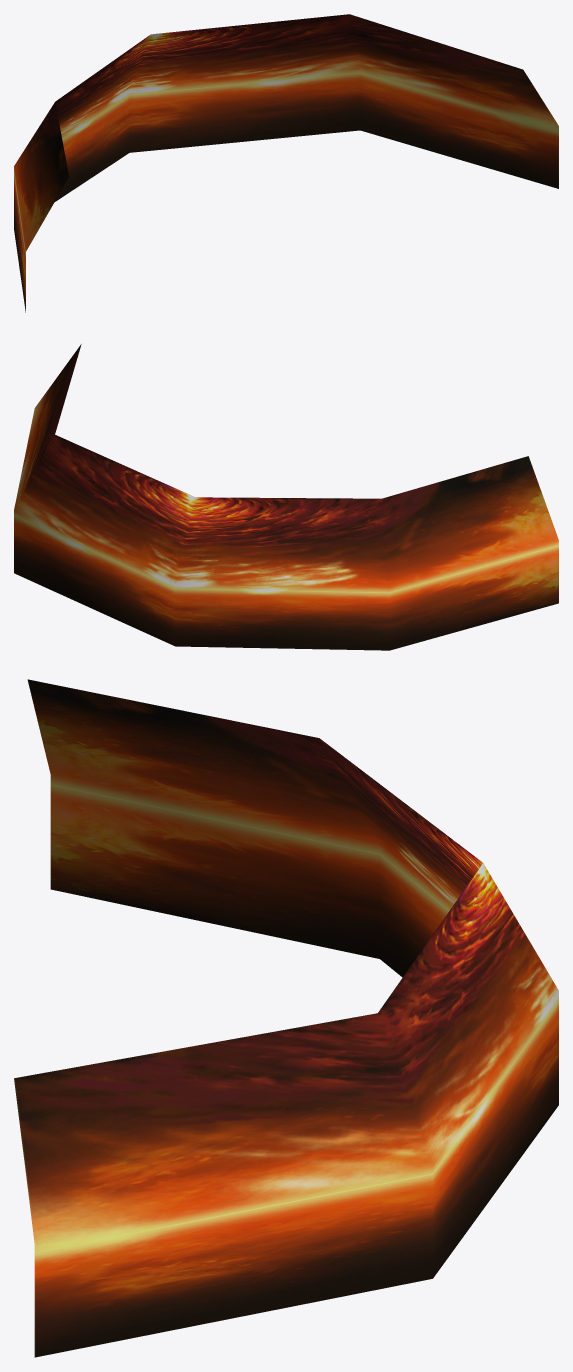
File: SkylogIng.FBX
3 views of the same model, one above another, from view 1: azimuth 30°, elevation 25°; view 2: azimuth 150°, elevation 25°; view 3: azimuth 270°, elevation 25° (orthographic). The views are drawn at different scales.
Parts seen in each view (by area): view 1: SkyLoging2; view 2: SkyLoging2; view 3: SkyLoging2.
Boxes of the visible parts, x1,y1,x2,y2 form: SkyLoging2: (14,14,558,312); SkyLoging2: (14,344,558,650); SkyLoging2: (14,679,558,1357).
Size of the model in its own units: 3768 by 911 by 1854.
